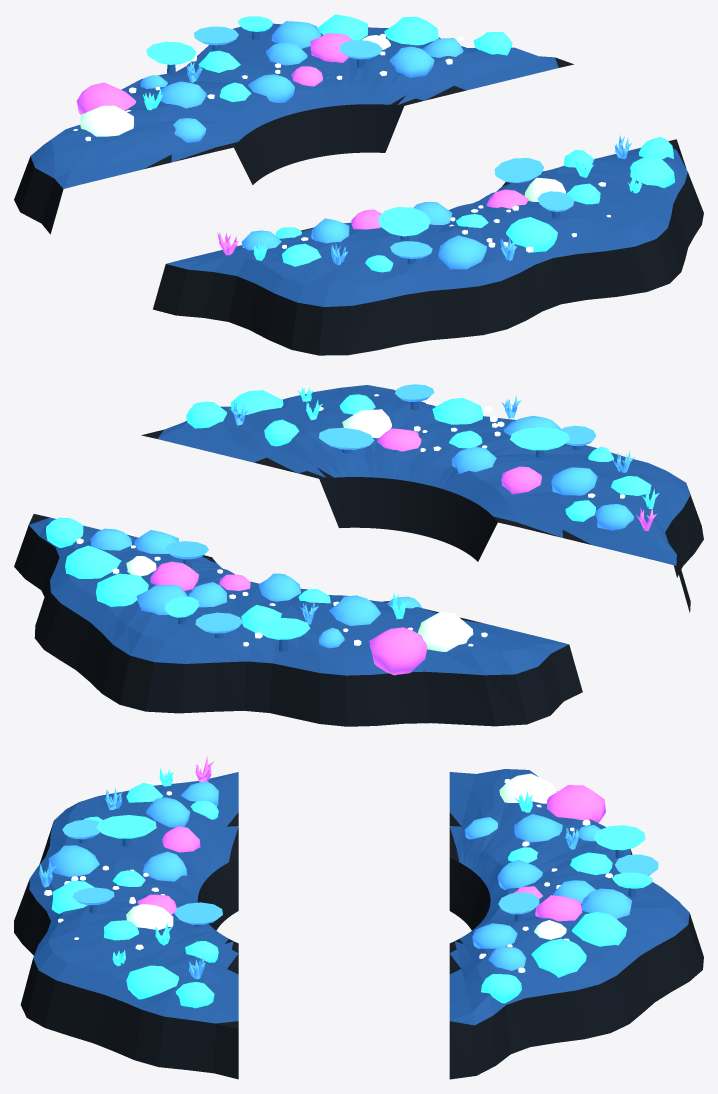
The model's file is disc-glow-reef.glb.
3 renders of one model, top to bottom at view 1: azimuth 30°, elevation 25°; view 2: azimuth 150°, elevation 25°; view 3: azimuth 270°, elevation 25°, orthographic. The views are drawn at different scales.
Parts seen in each view (by area): view 1: Mesh_ReefRockDeepR, Mesh_ReefRockR, Mesh_ReefRockL, Mesh_ReefRockDeepL, Mesh_GlowDome18, Mesh_GlowDome8, Mesh_GlowDome16, Mesh_TableCoral2, Mesh_GlowDome31, Mesh_GlowDome21, Mesh_GlowDome28, Mesh_GlowDome29 (+24 smaller); view 2: Mesh_ReefRockDeepL, Mesh_ReefRockR, Mesh_ReefRockL, Mesh_ReefRockDeepR, Mesh_GlowDome31, Mesh_GlowDome18, Mesh_GlowDome21, Mesh_GlowDome24, Mesh_GlowDome11, Mesh_TableCoral2, Mesh_GlowDome1, Mesh_GlowDome8 (+24 smaller); view 3: Mesh_ReefRockR, Mesh_ReefRockL, Mesh_ReefRockDeepL, Mesh_ReefRockDeepR, Mesh_GlowDome31, Mesh_GlowDome21, Mesh_GlowDome24, Mesh_GlowDome28, Mesh_GlowDome18, Mesh_GlowDome16, Mesh_TableCoral2, Mesh_GlowDome9 (+26 smaller).
Part boxes in pixels (<box>): Mesh_ReefRockDeepR: <box>153,139,703,355</box>; Mesh_ReefRockR: <box>166,147,687,306</box>; Mesh_ReefRockL: <box>30,23,558,188</box>; Mesh_ReefRockDeepL: <box>14,57,573,234</box>; Mesh_GlowDome18: <box>80,105,133,136</box>; Mesh_GlowDome8: <box>506,217,557,252</box>; Mesh_GlowDome16: <box>438,235,486,269</box>; Mesh_TableCoral2: <box>378,207,430,236</box>; Mesh_GlowDome31: <box>76,82,135,114</box>; Mesh_GlowDome21: <box>384,16,438,45</box>; Mesh_GlowDome28: <box>630,155,674,188</box>; Mesh_GlowDome29: <box>390,46,434,77</box>; Mesh_ReefRockDeepL: <box>14,514,582,726</box>; Mesh_ReefRockR: <box>157,385,690,565</box>; Mesh_ReefRockL: <box>29,517,568,675</box>; Mesh_ReefRockDeepR: <box>141,429,703,612</box>; Mesh_GlowDome31: <box>369,627,427,675</box>; Mesh_GlowDome18: <box>417,611,473,651</box>; Mesh_GlowDome21: <box>65,545,121,578</box>; Mesh_GlowDome24: <box>96,573,148,606</box>; Mesh_GlowDome11: <box>329,595,380,625</box>; Mesh_TableCoral2: <box>510,427,569,450</box>; Mesh_GlowDome1: <box>551,467,597,495</box>; Mesh_GlowDome8: <box>432,398,483,424</box>; Mesh_ReefRockR: <box>29,772,238,1023</box>; Mesh_ReefRockL: <box>449,769,689,1025</box>; Mesh_ReefRockDeepL: <box>449,812,703,1079</box>; Mesh_ReefRockDeepR: <box>14,812,238,1079</box>; Mesh_GlowDome31: <box>547,785,605,822</box>; Mesh_GlowDome21: <box>531,938,586,977</box>; Mesh_GlowDome24: <box>572,912,626,946</box>; Mesh_GlowDome28: <box>126,965,179,999</box>; Mesh_GlowDome18: <box>499,773,556,803</box>; Mesh_GlowDome16: <box>48,845,99,876</box>; Mesh_TableCoral2: <box>96,815,156,838</box>; Mesh_GlowDome9: <box>581,888,631,918</box>.
Size of the model in its own units: 21.84 by 3.36 by 23.56.
